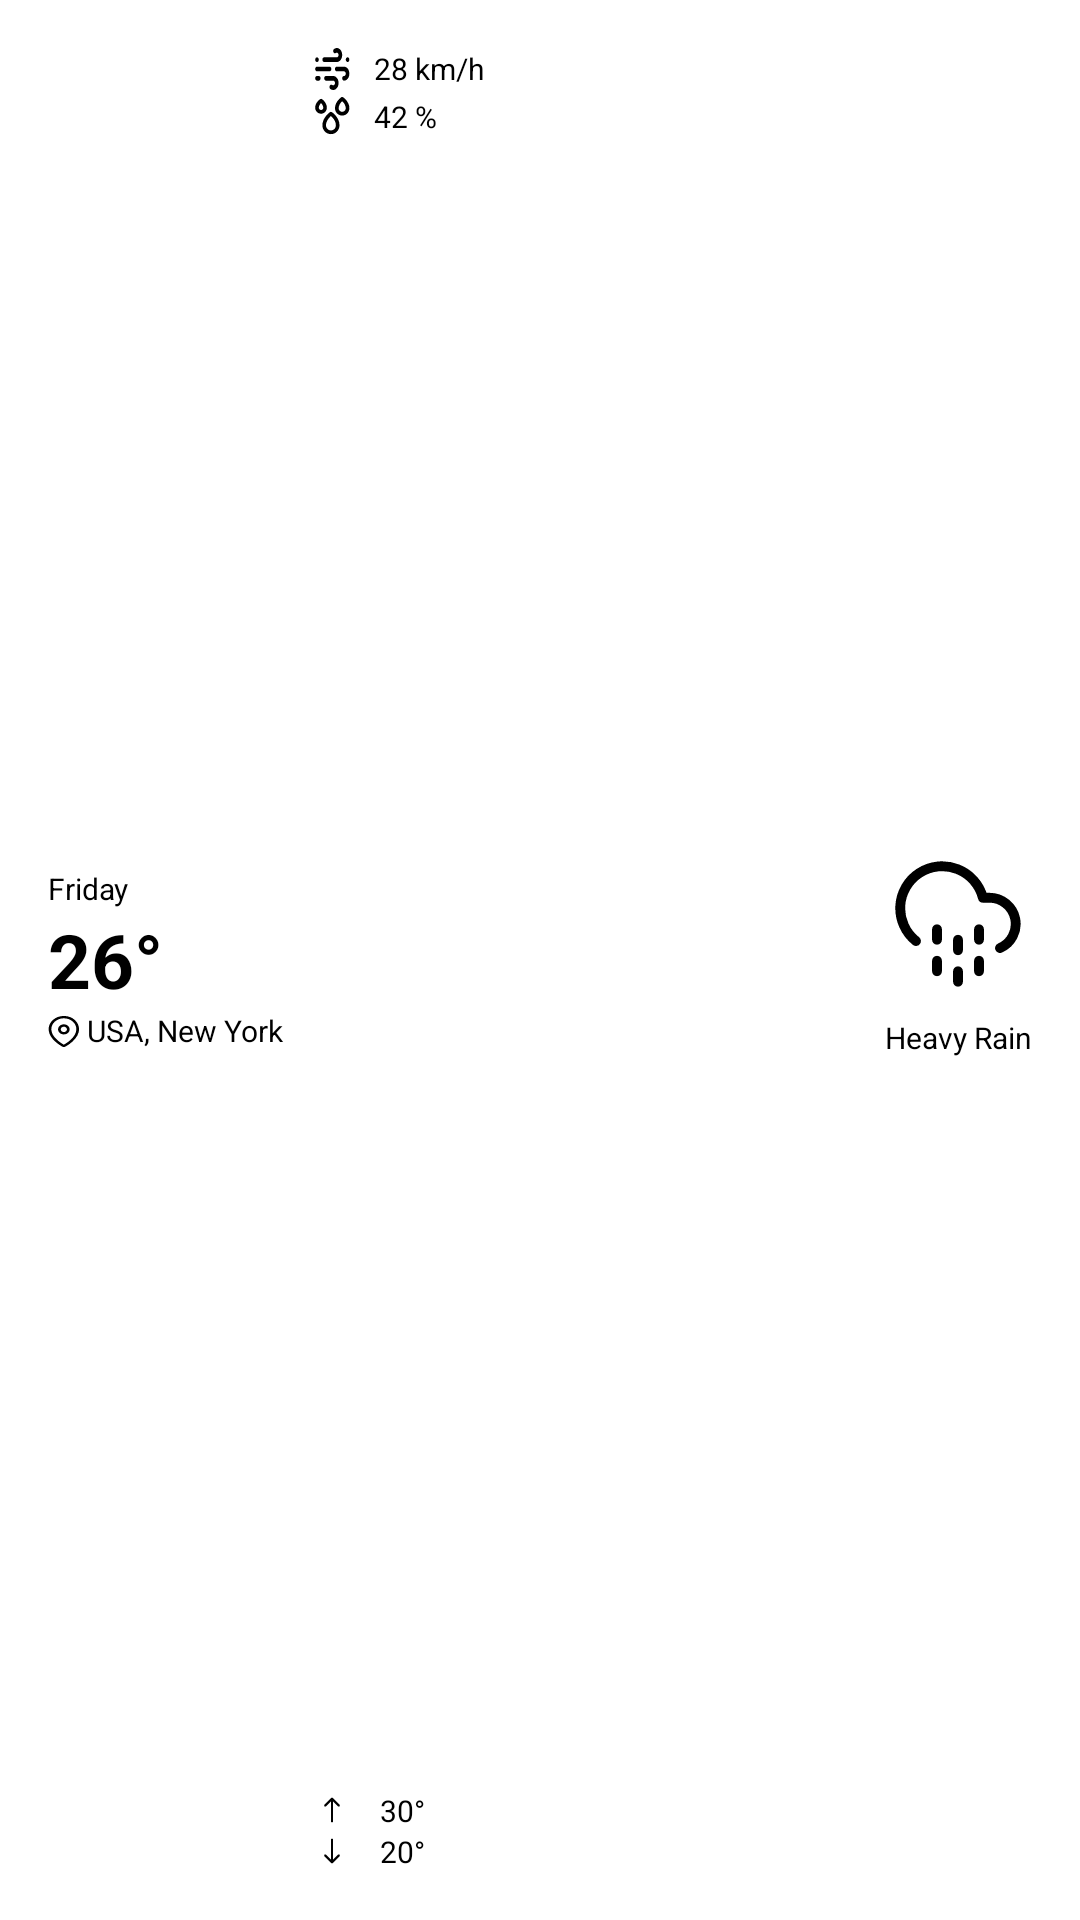

Icons on this 1080px x 1920px Android screen, each with the point to tap as (x,y):
downarrow: (332,1851)
humidity: (332,115)
location: (63,1031)
uparrow: (332,1810)
wind: (332,69)
